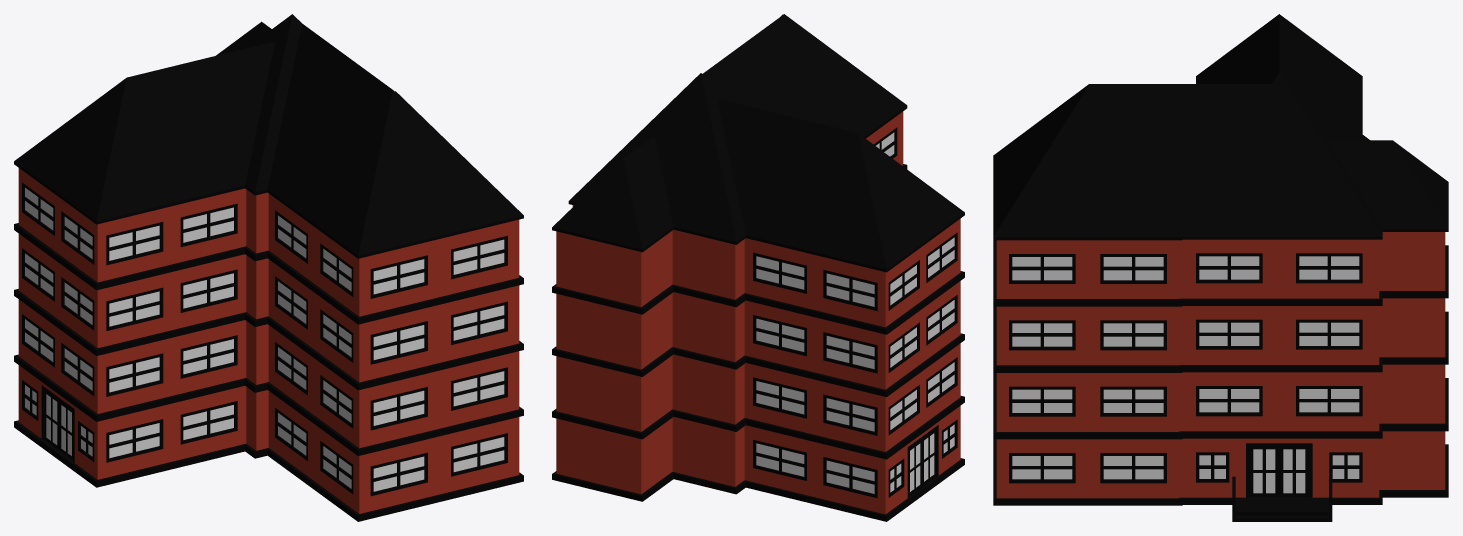
The model's file is medium building 14.fbx.
The picture shows the model from 3 angles, left to right: view 1: azimuth 30°, elevation 25°; view 2: azimuth 150°, elevation 25°; view 3: azimuth 270°, elevation 25°; orthographic projection. The views are drawn at different scales.
Parts seen in each view (by area): view 1: building_001; view 2: building_001; view 3: building_001.
Part boxes in pixels (bbox=[...]): building_001: bbox=[14, 14, 523, 521]; building_001: bbox=[552, 14, 964, 521]; building_001: bbox=[993, 14, 1448, 521].
Bounding box in the file's own units: 1260 × 1290 × 1368.
